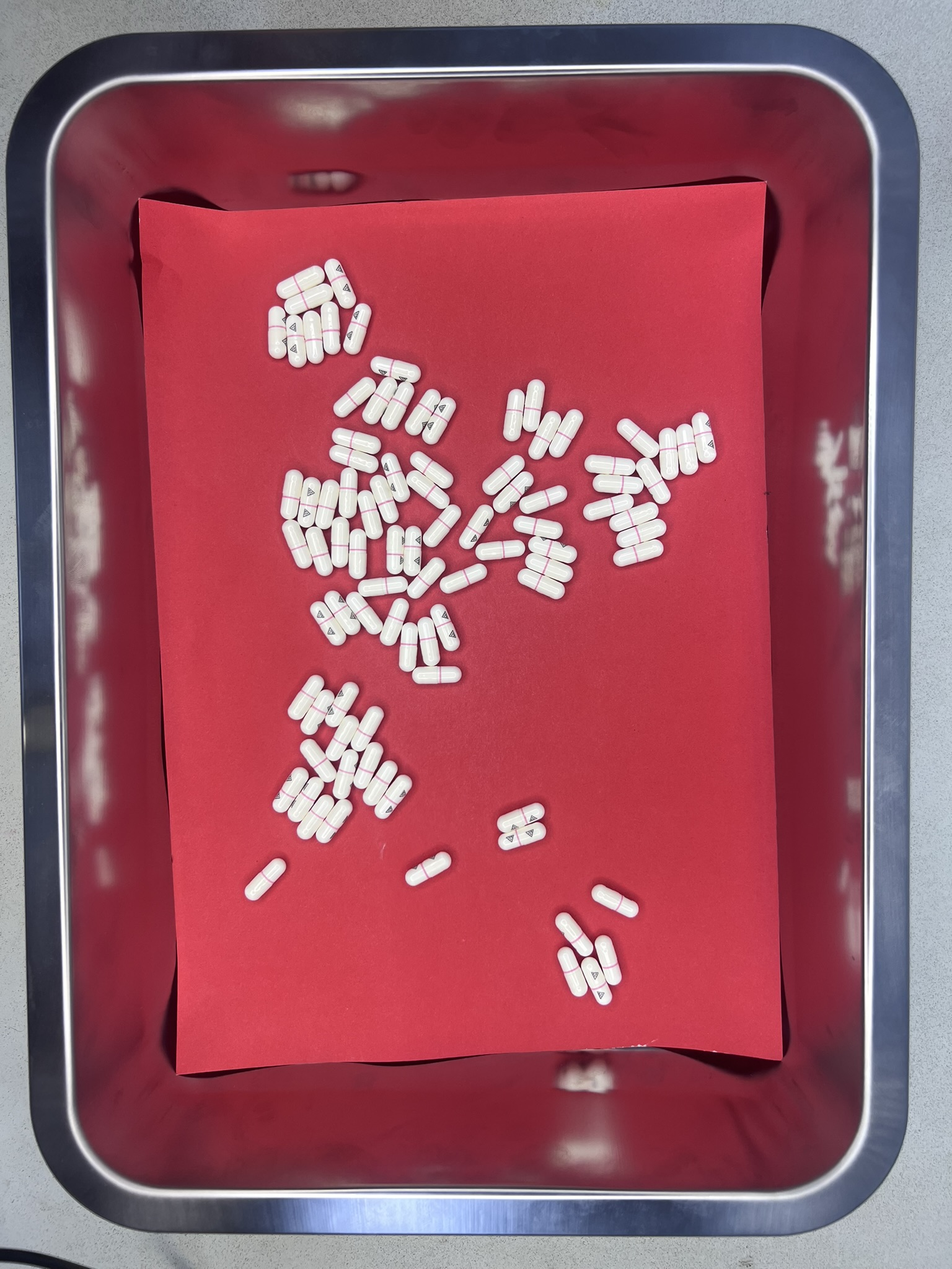Capsule: (330, 375, 376, 419), (403, 388, 443, 437), (296, 792, 335, 842), (271, 765, 310, 815), (489, 471, 533, 514), (482, 453, 526, 496), (314, 798, 354, 845), (276, 265, 328, 301), (517, 566, 572, 600), (244, 858, 286, 902), (410, 452, 455, 492), (422, 505, 462, 550), (309, 599, 349, 644), (555, 912, 594, 958), (380, 379, 414, 431), (616, 418, 659, 459), (458, 505, 497, 550), (422, 396, 457, 446), (287, 675, 325, 721), (286, 774, 323, 821), (299, 690, 336, 737), (407, 557, 447, 600), (283, 283, 335, 316), (350, 706, 385, 755), (299, 738, 336, 784), (375, 774, 412, 820), (550, 410, 584, 460), (609, 501, 662, 533), (635, 457, 671, 504), (591, 883, 638, 919), (405, 851, 452, 887), (362, 376, 396, 425), (529, 411, 563, 460), (345, 590, 382, 635), (615, 518, 668, 549), (326, 715, 360, 763), (362, 760, 398, 805), (281, 520, 312, 571), (325, 259, 356, 310), (558, 946, 588, 998), (380, 453, 411, 503), (352, 742, 383, 791), (331, 749, 360, 800), (584, 494, 636, 522), (526, 536, 576, 565), (581, 956, 611, 1004), (369, 475, 399, 523), (518, 485, 566, 515), (440, 563, 488, 593), (497, 803, 545, 833), (595, 935, 623, 986), (371, 356, 422, 384), (498, 821, 545, 851), (691, 411, 717, 465), (344, 305, 372, 355), (413, 476, 453, 511), (381, 598, 410, 646), (431, 603, 460, 651), (331, 444, 378, 473), (613, 541, 663, 568), (331, 427, 379, 455), (357, 490, 382, 543), (513, 516, 564, 541), (522, 380, 546, 433), (327, 682, 359, 721), (306, 527, 331, 576), (280, 469, 304, 520), (316, 480, 340, 530), (297, 477, 321, 526), (475, 538, 526, 561), (676, 424, 698, 476), (586, 455, 638, 477), (303, 310, 324, 364), (503, 389, 525, 440), (320, 302, 341, 355), (418, 617, 440, 667), (589, 474, 639, 496), (338, 468, 359, 520), (286, 315, 307, 367), (358, 575, 405, 598), (330, 518, 350, 571), (268, 307, 288, 360), (658, 428, 679, 477), (411, 665, 462, 685), (385, 525, 405, 575), (522, 552, 565, 575), (404, 526, 424, 574), (399, 621, 418, 671), (348, 528, 367, 578), (324, 591, 352, 623)
